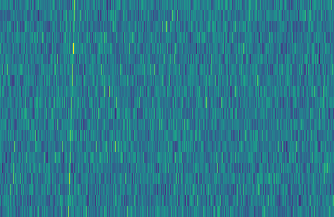signal: (61, 0, 76, 217)
